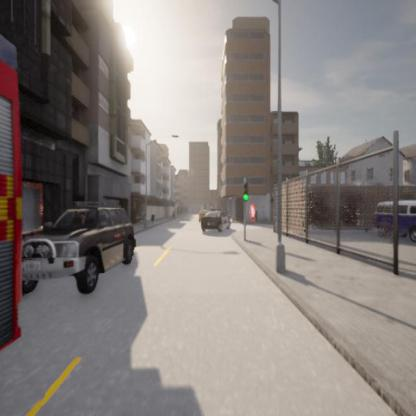traffic_light_green: (242, 181, 249, 201)
vehicle: (26, 206, 136, 293), (375, 199, 415, 243), (199, 210, 225, 235)
